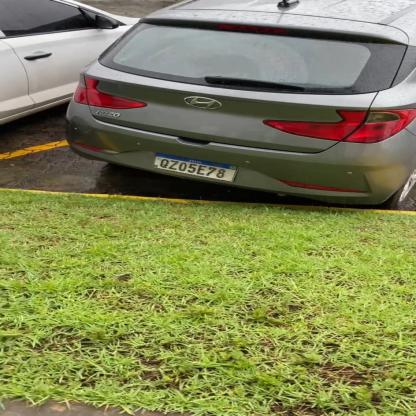Plate: (148, 146, 242, 184)
